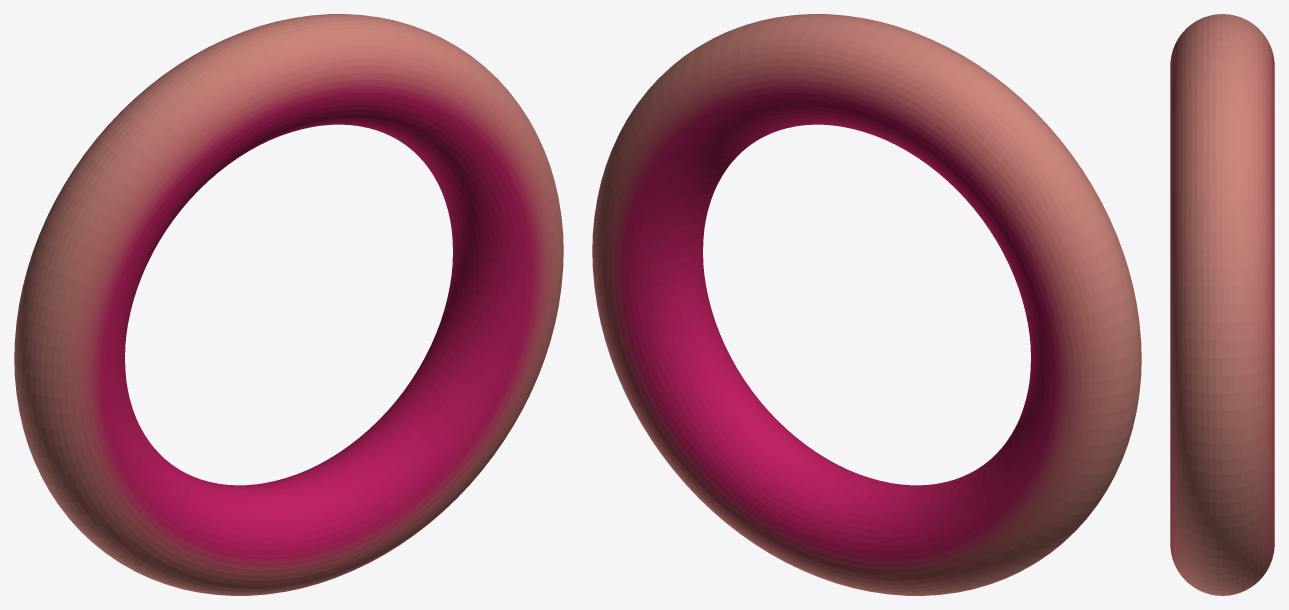
The picture shows the model from 3 angles, left to right: view 1: azimuth 30°, elevation 25°; view 2: azimuth 150°, elevation 25°; view 3: azimuth 270°, elevation 25°; orthographic projection. The views are drawn at different scales.
Visible parts, largest first — view 1: world; view 2: world; view 3: world.
Part boxes in pixels (bbox=[...]): world: bbox=[14, 14, 563, 595]; world: bbox=[592, 14, 1141, 595]; world: bbox=[1170, 14, 1274, 595].
Size of the model in its own units: 34.93 by 34.93 by 6.25.
